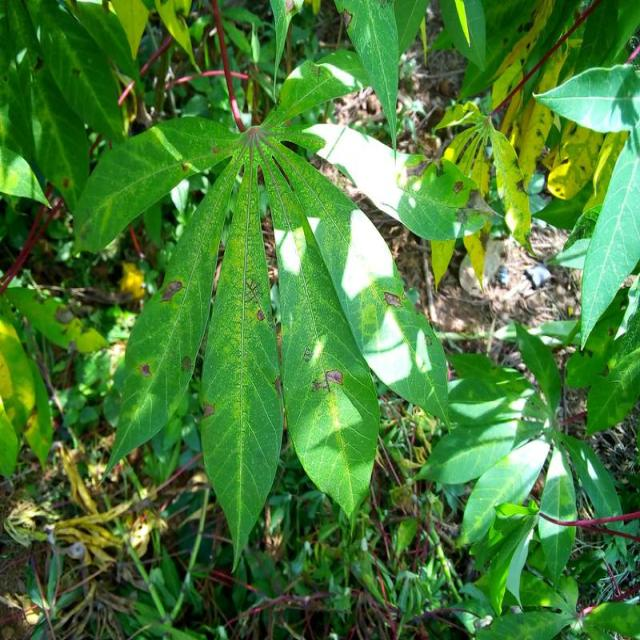cassava leaf: (74, 56, 454, 568), (198, 142, 284, 573), (271, 211, 381, 528)
